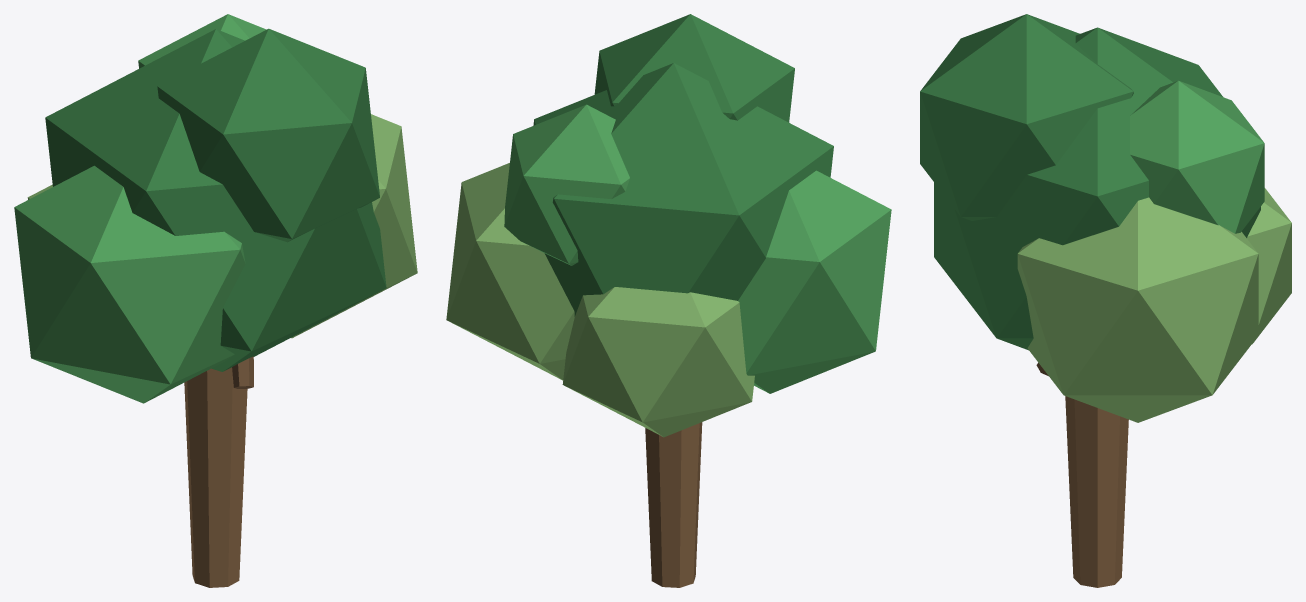
The model's file is t_tree_b.gltf.
3 views of the same model, side by side, from view 1: azimuth 30°, elevation 25°; view 2: azimuth 150°, elevation 25°; view 3: azimuth 270°, elevation 25° (orthographic). The views are drawn at different scales.
Visible parts, largest first — view 1: t_tree_b; view 2: t_tree_b; view 3: t_tree_b.
Part boxes in pixels (box(x1,y1,x2,y2)): t_tree_b: box(14, 14, 417, 587); t_tree_b: box(446, 14, 891, 587); t_tree_b: box(920, 14, 1291, 587).
Size of the model in its own units: 2.78 by 3.74 by 2.21.
1 material, 1 textured.
